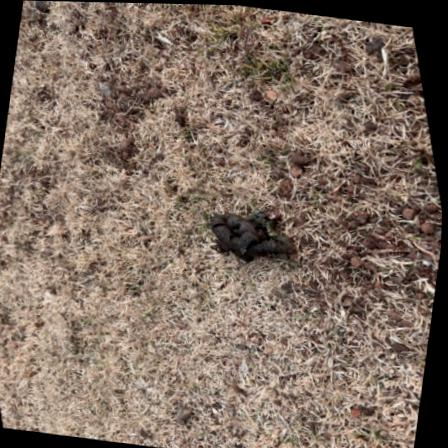dog-poop: (191, 197, 299, 267)
